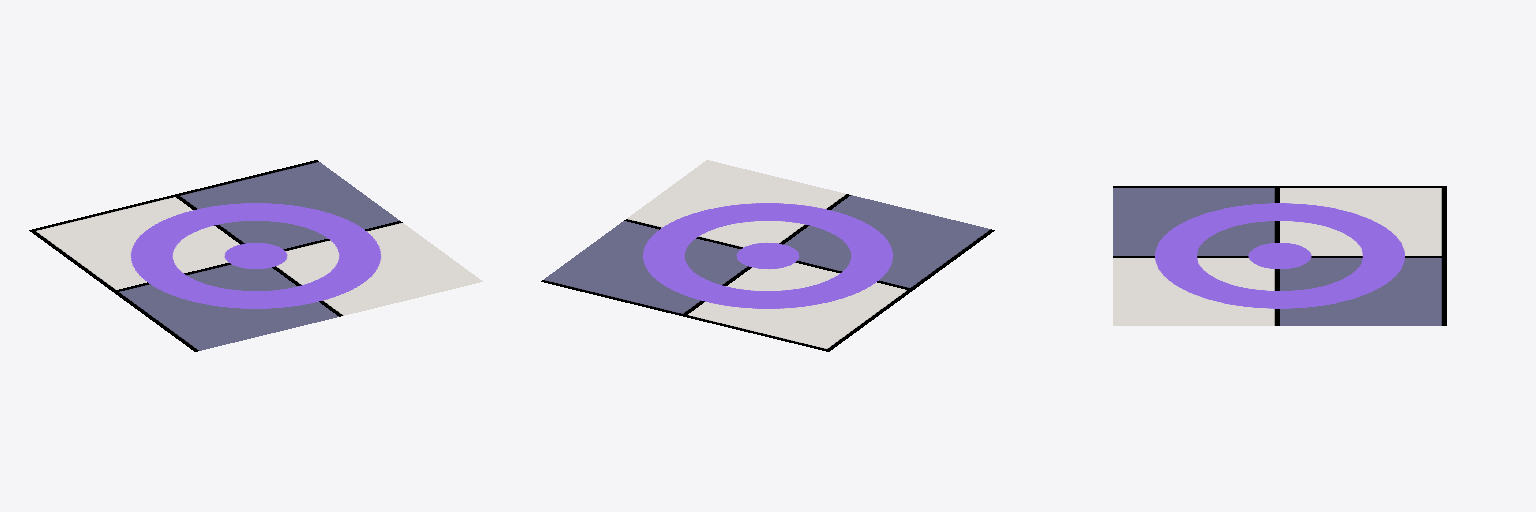
3 views of the same model, side by side, from view 1: azimuth 30°, elevation 25°; view 2: azimuth 150°, elevation 25°; view 3: azimuth 270°, elevation 25° (orthographic).
Visible parts, largest first — view 1: pPlane2; view 2: pPlane2; view 3: pPlane2.
Part boxes in pixels (x1,y1,x2,y2): pPlane2: (29,160,482,351); pPlane2: (541,160,994,351); pPlane2: (1113,186,1446,325).
Bounding box in the file's own units: 6 × 0 × 6.
Materials: 1 (1 with a texture image).